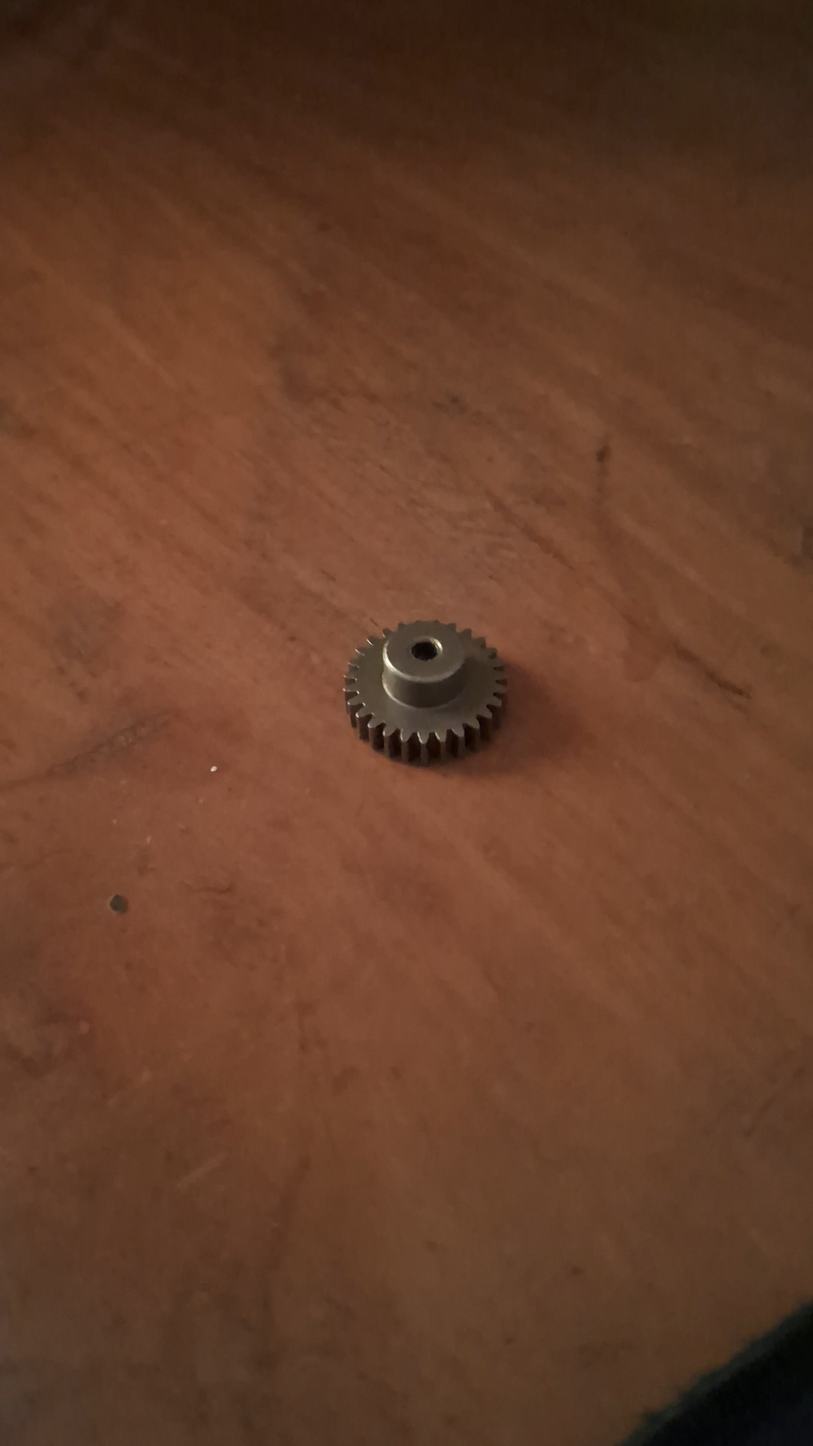spur gear: (344, 621, 506, 763)
